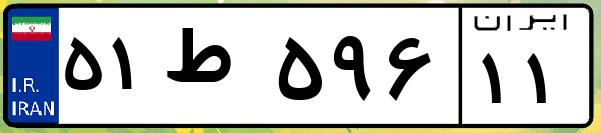1: (475, 38, 525, 113), (525, 38, 570, 115), (110, 28, 158, 98)
5: (270, 28, 330, 110), (57, 26, 110, 100)
6: (385, 28, 445, 110)
9: (330, 28, 385, 110)
ط: (158, 20, 270, 120)
